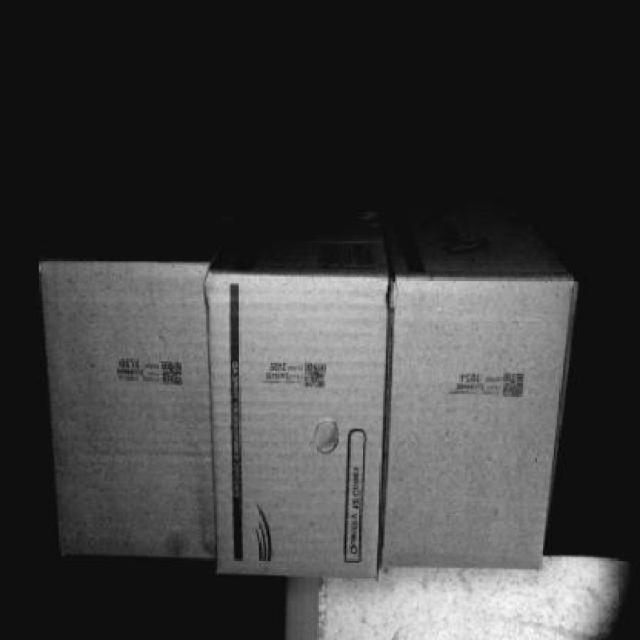cardboxes: (381, 277, 574, 580), (211, 278, 384, 577), (47, 262, 204, 564)
